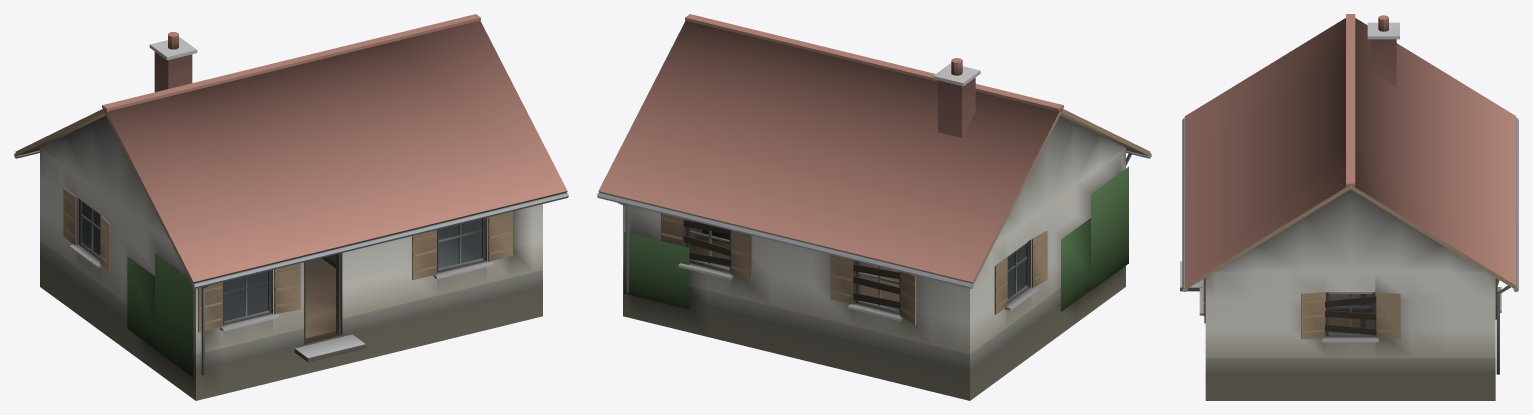
File: house_a.glb
3 views of the same model, side by side, from view 1: azimuth 30°, elevation 25°; view 2: azimuth 150°, elevation 25°; view 3: azimuth 270°, elevation 25° (orthographic). The views are drawn at different scales.
Parts seen in each view (by area): view 1: house_a; view 2: house_a; view 3: house_a.
Part boxes in pixels (x1,y1,x2,y2): house_a: [14, 14, 568, 400]; house_a: [597, 14, 1151, 400]; house_a: [1180, 14, 1518, 400].
Size of the model in its own units: 9.7 by 6.91 by 8.19.
